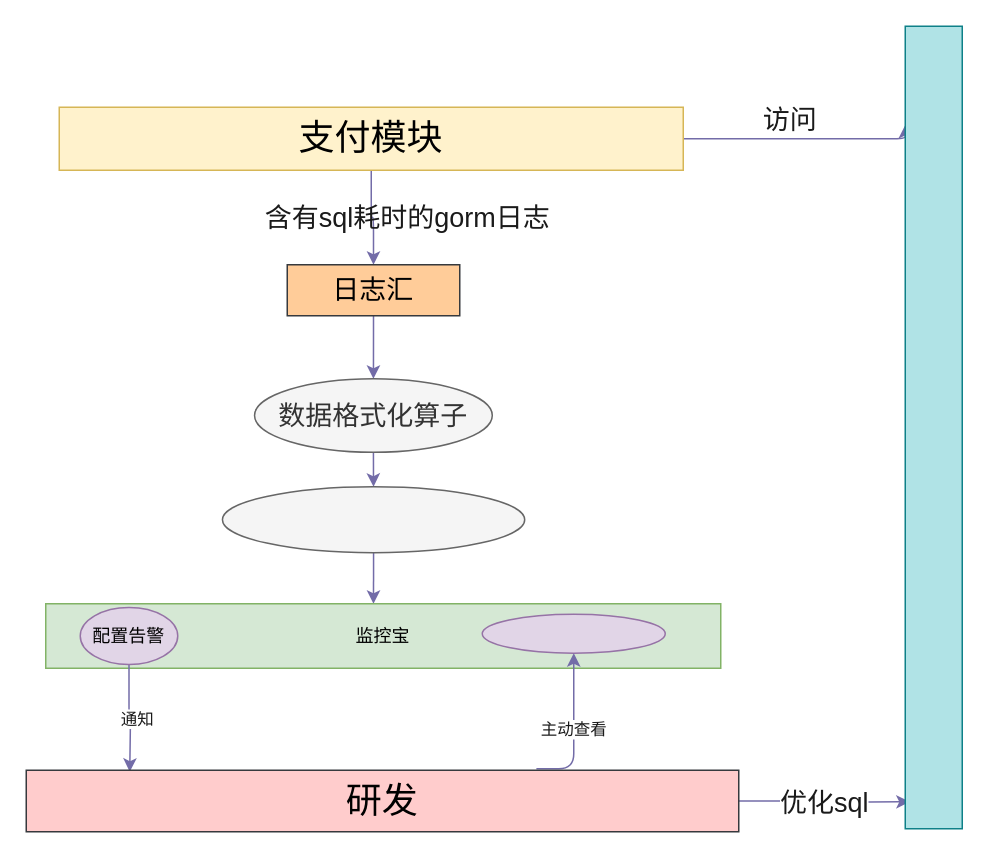
Some shapes in this 989 by 858 pixel diagram are drawn without their labels. The shapes that lost their labels are listed below. From the top down, each one's centre as x and y in pixels, then its label:
At point (933, 427): "数据库".
At point (373, 519): "数据过滤算子".
At point (573, 633): "生成慢sql耗时视图".
